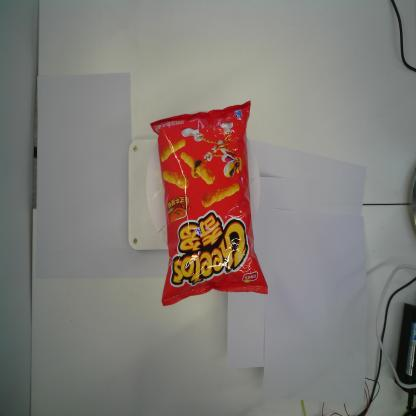Puffed Food: (148, 98, 270, 308)
